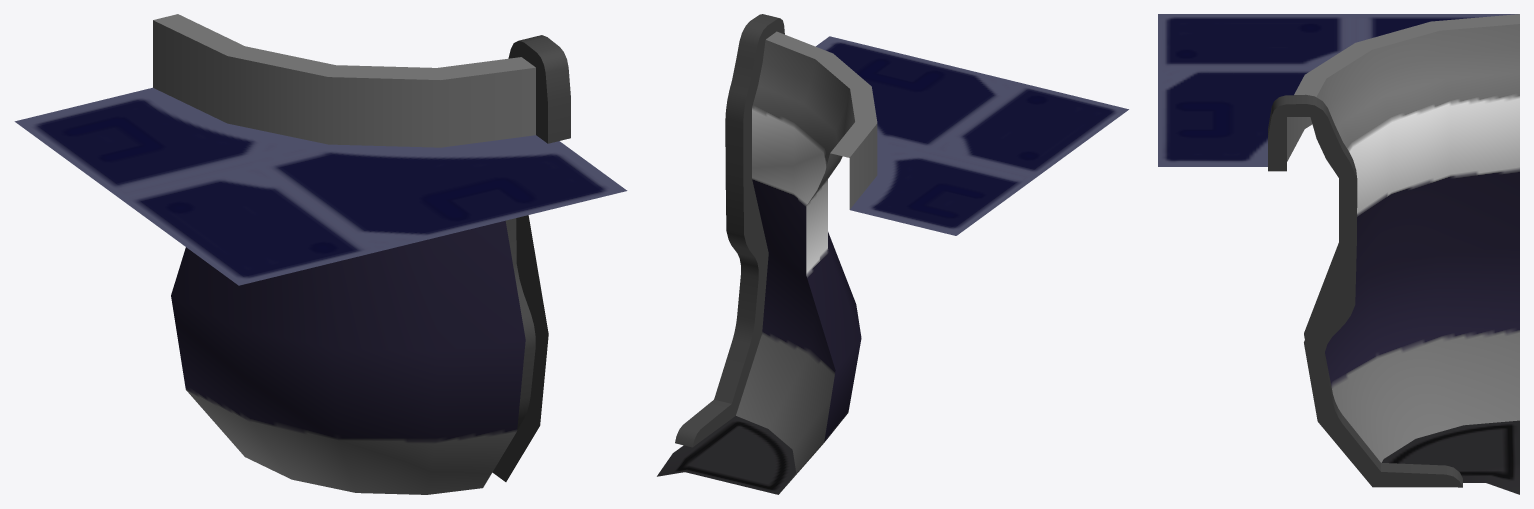
Rendered from concave_wall.glb.
The picture shows the model from 3 angles, left to right: view 1: azimuth 30°, elevation 25°; view 2: azimuth 150°, elevation 25°; view 3: azimuth 270°, elevation 25°; orthographic projection. The views are drawn at different scales.
Parts seen in each view (by area): view 1: structural_corner-int; view 2: structural_corner-int; view 3: structural_corner-int.
Boxes of the visible parts, box(x1,y1,x2,y2) form: structural_corner-int: box(14, 14, 627, 494); structural_corner-int: box(657, 14, 1128, 494); structural_corner-int: box(1158, 14, 1519, 494).
Bounding box in the file's own units: 2.06 × 2.41 × 2.
1 material, 1 textured.
